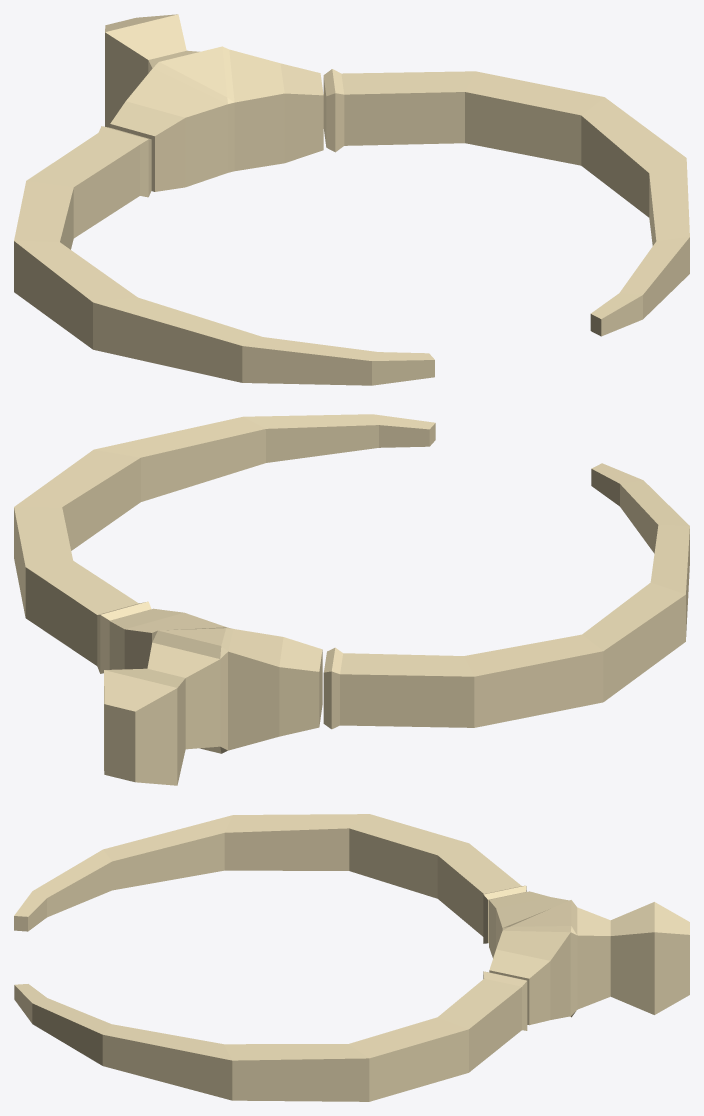
The model's file is Rib.fbx.
The picture shows the model from 3 angles, top to bottom: view 1: azimuth 30°, elevation 25°; view 2: azimuth 150°, elevation 25°; view 3: azimuth 270°, elevation 25°; orthographic projection. The views are drawn at different scales.
Visible parts, largest first — view 1: Rib; view 2: Rib; view 3: Rib.
Boxes of the visible parts, <box> form: Rib: <box>14,14,689,385</box>; Rib: <box>14,414,689,785</box>; Rib: <box>14,814,689,1101</box>.
Size of the model in its own units: 274 by 47.59 by 319.
